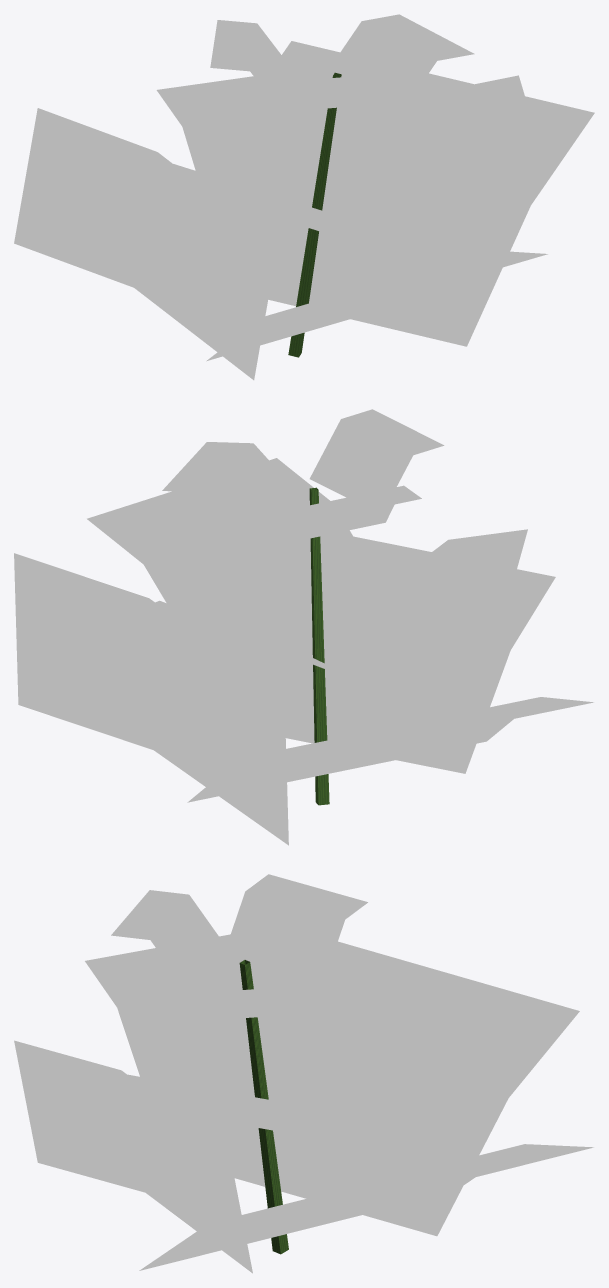
File: plant_1_3_0_lod.obj
3 renders of one model, top to bottom at view 1: azimuth 30°, elevation 25°; view 2: azimuth 150°, elevation 25°; view 3: azimuth 270°, elevation 25°, orthographic. The views are drawn at different scales.
Visible parts, largest first — view 1: model; view 2: model; view 3: model.
Boxes of the visible parts, box(x1,y1,x2,y2) form: model: box(14, 14, 594, 380); model: box(14, 409, 593, 845); model: box(14, 874, 593, 1273).
Bounding box in the file's own units: 0.8473 × 0.4483 × 0.7073.
